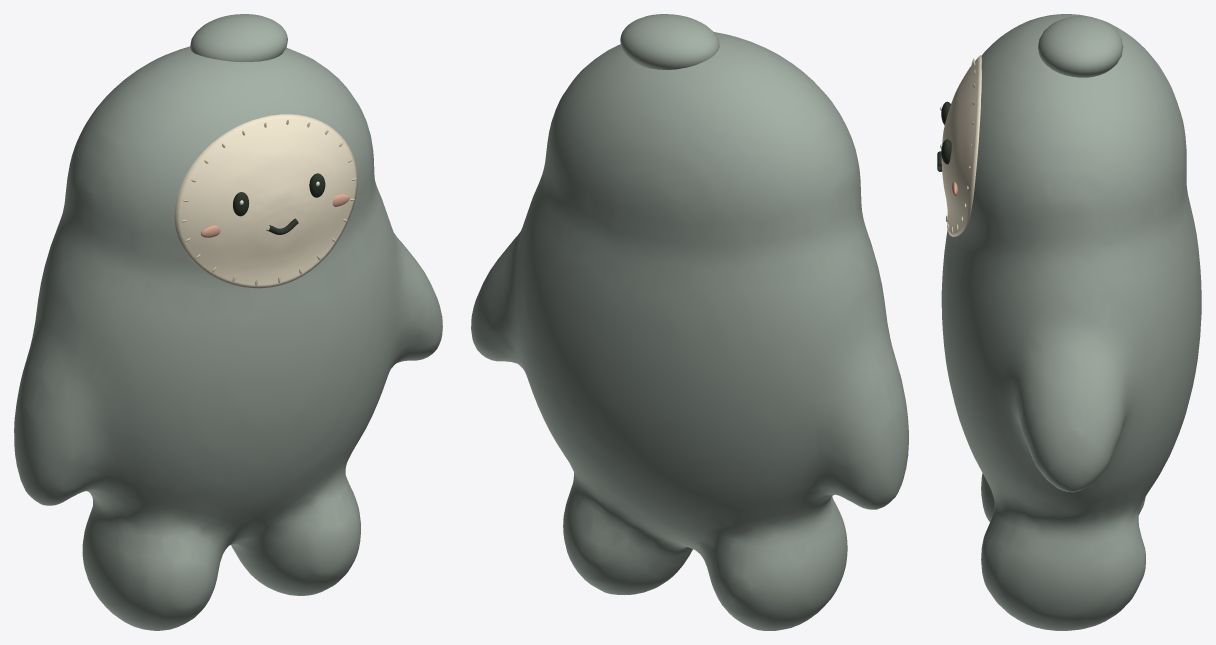
File: pebble-atelier-v2.glb
The picture shows the model from 3 angles, left to right: view 1: azimuth 30°, elevation 25°; view 2: azimuth 150°, elevation 25°; view 3: azimuth 270°, elevation 25°; orthographic projection. The views are drawn at different scales.
Visible parts, largest first — view 1: Pebble continuous body, Linen face panel, Little crown pebble; view 2: Pebble continuous body, Little crown pebble; view 3: Pebble continuous body, Linen face panel, Little crown pebble.
Boxes of the visible parts, box(x1,y1,x2,y2) form: Pebble continuous body: box(14, 46, 442, 630); Linen face panel: box(174, 114, 357, 288); Little crown pebble: box(190, 14, 287, 62); Pebble continuous body: box(471, 32, 908, 630); Little crown pebble: box(620, 14, 719, 69); Pebble continuous body: box(941, 14, 1201, 630); Linen face panel: box(941, 55, 981, 236); Little crown pebble: box(1038, 16, 1123, 77).
Size of the model in its own units: 1.36 by 1.79 by 0.743.
